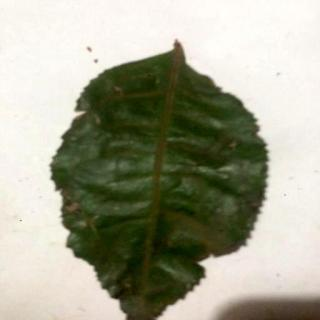Red Leaf Spot: (52, 40, 269, 320)
